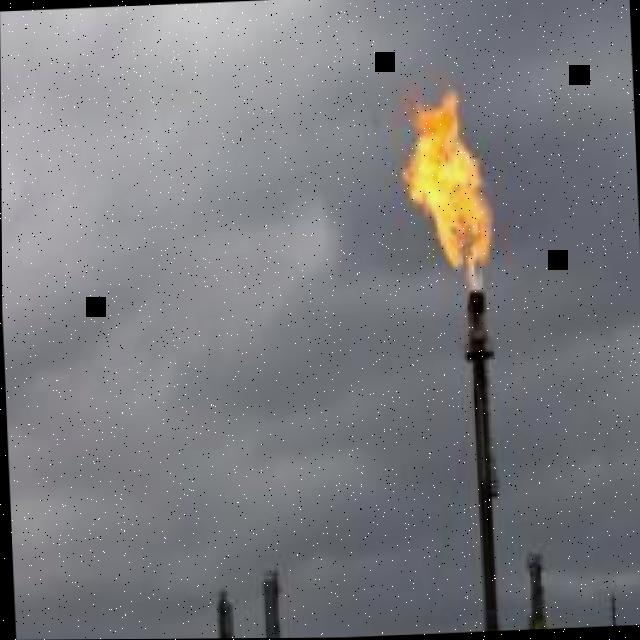fire: (401, 90, 497, 299)
